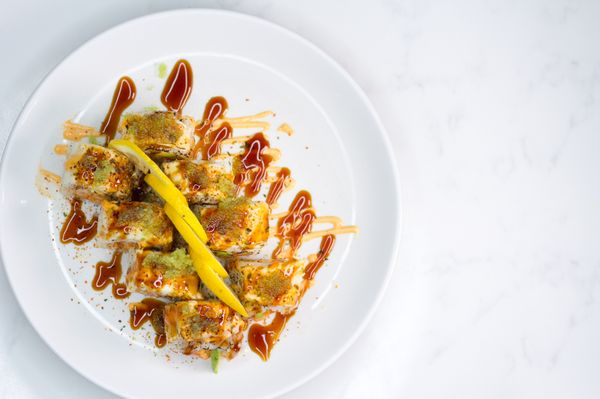sushi: (8, 12, 402, 381)
